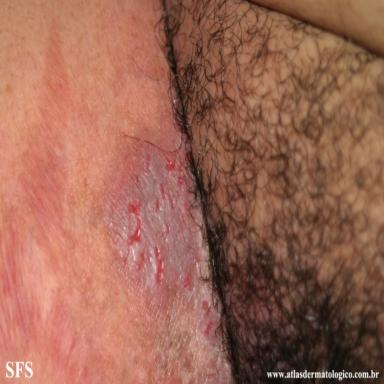Hailey-Hailey-Disease: (103, 138, 232, 384)
